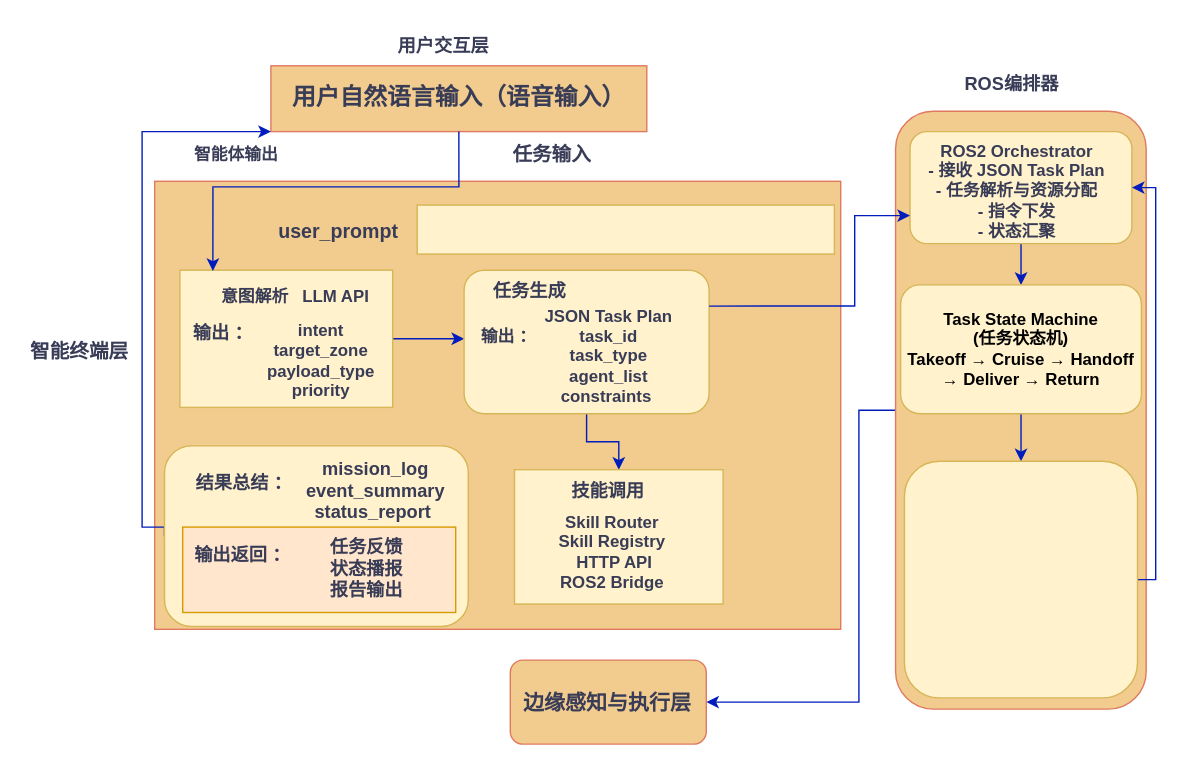
The diagram is 1191 pixels wide and 780 high, and some of its shapes have lost their labels. Here are the shapes that lost their labels. From the top down, the centre of each, then its label:
At (x=625, y=229): "OpenClaw 智能终端（LLM Agent + Tool Calling）".
At (x=1020, y=579): "异常监测与重规划 - 低电量 - 链路异常 - 交接失败 - 路径阻塞 输出： - 备机接替 - 备用交接点切换 - 任务重规划".
